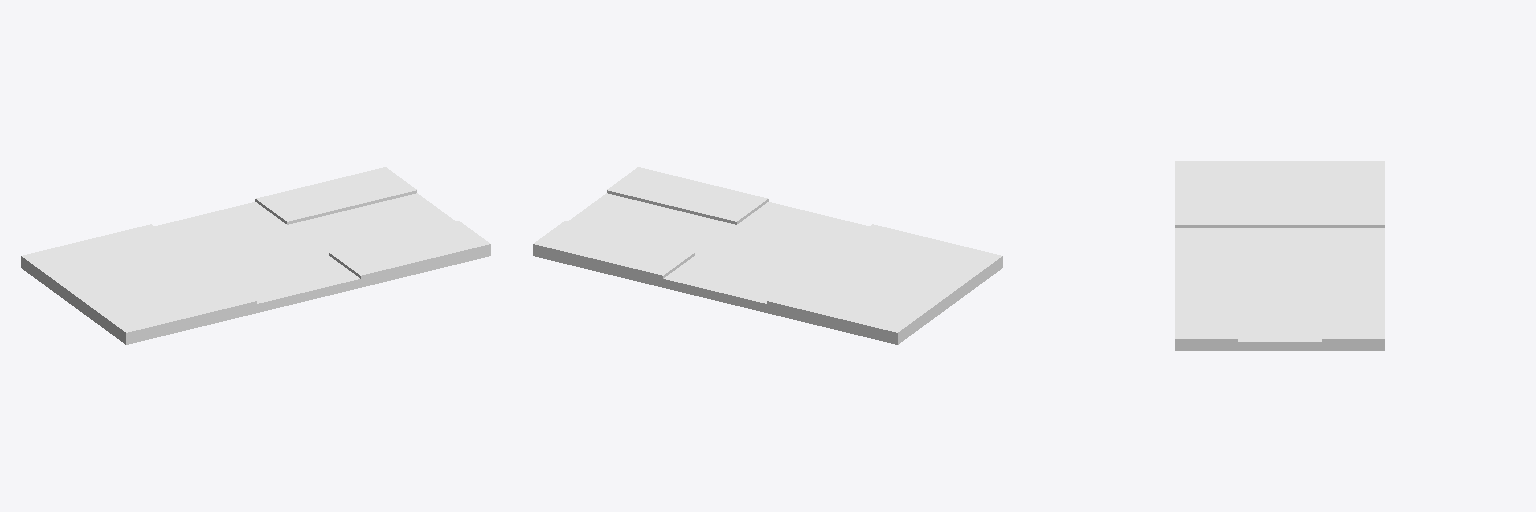
The model's file is roads-3.obj.
3 renders of one model, left to right at view 1: azimuth 30°, elevation 25°; view 2: azimuth 150°, elevation 25°; view 3: azimuth 270°, elevation 25°, orthographic.
Parts seen in each view (by area): view 1: object 1; view 2: object 1; view 3: object 1.
Boxes of the visible parts, box(x1,y1,x2,y2) form: object 1: box(21, 167, 490, 344); object 1: box(533, 167, 1002, 344); object 1: box(1175, 161, 1384, 350).
Bounding box in the file's own units: 12.6 × 0.4 × 6.3.